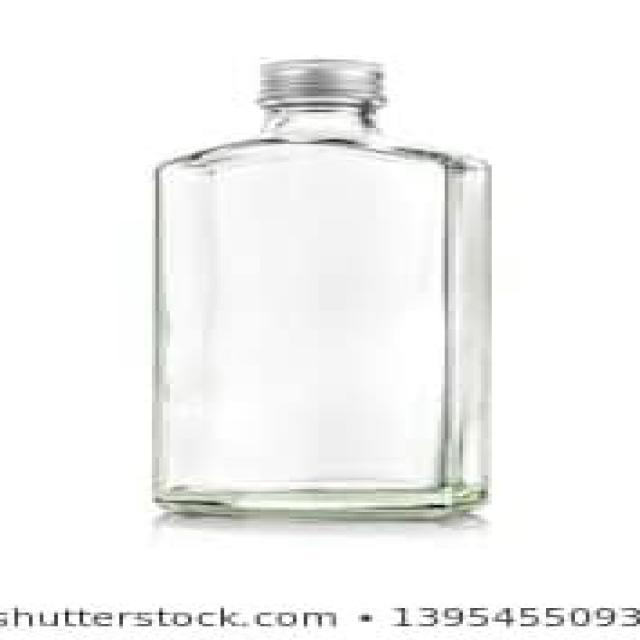Glass: (127, 30, 526, 528)
